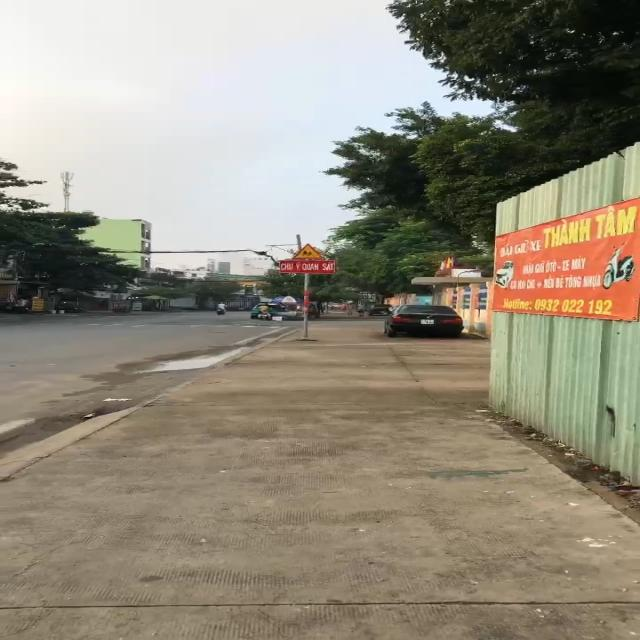Bien bao tre em: (291, 240, 326, 260)
